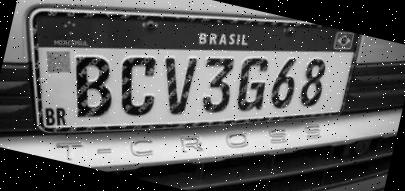placa_mercosul: (29, 7, 356, 131)
